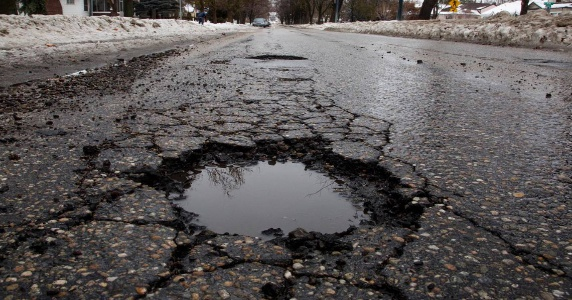pothole: (107, 125, 440, 257), (237, 51, 321, 64)
